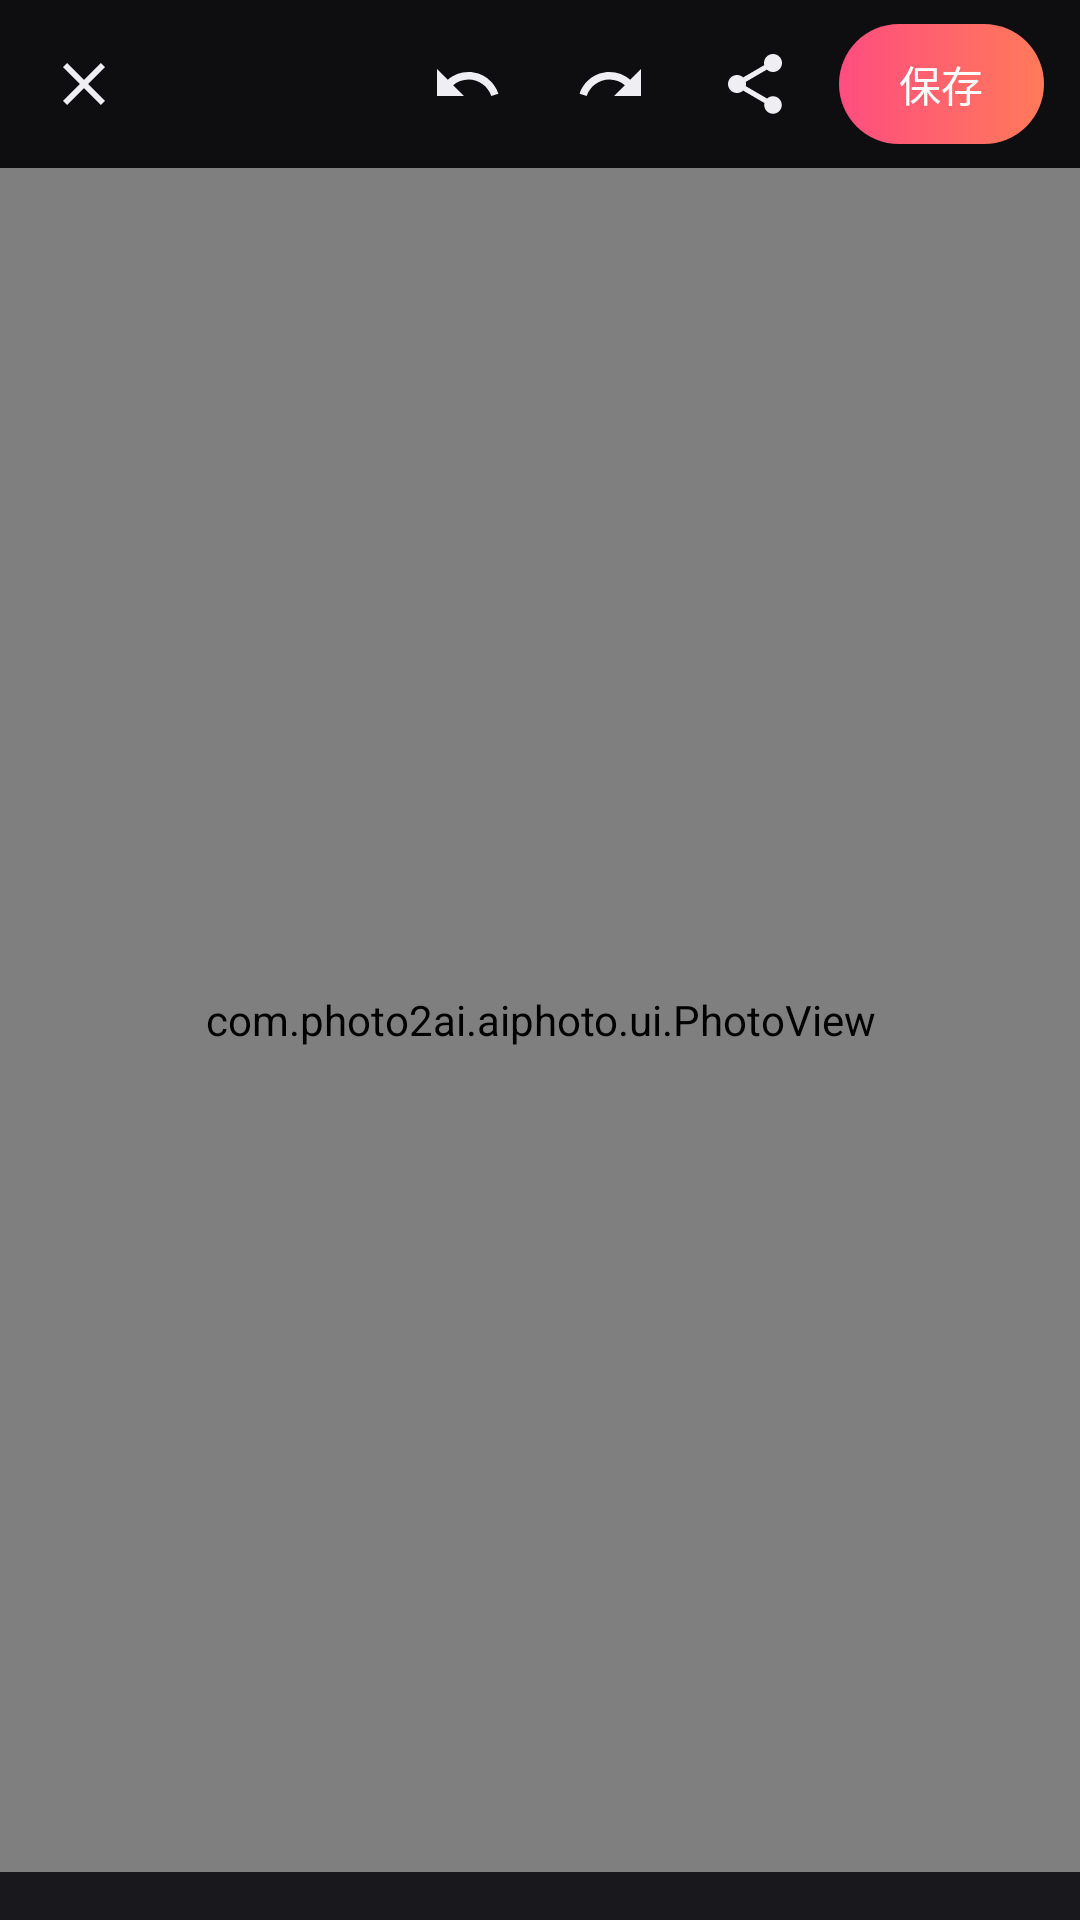

Where to tap for icons on this 1080x1920 app screen, as (x=x, y=y):
关闭: (x=84, y=84)
分享: (x=755, y=84)
撤销: (x=468, y=82)
重做: (x=610, y=82)
